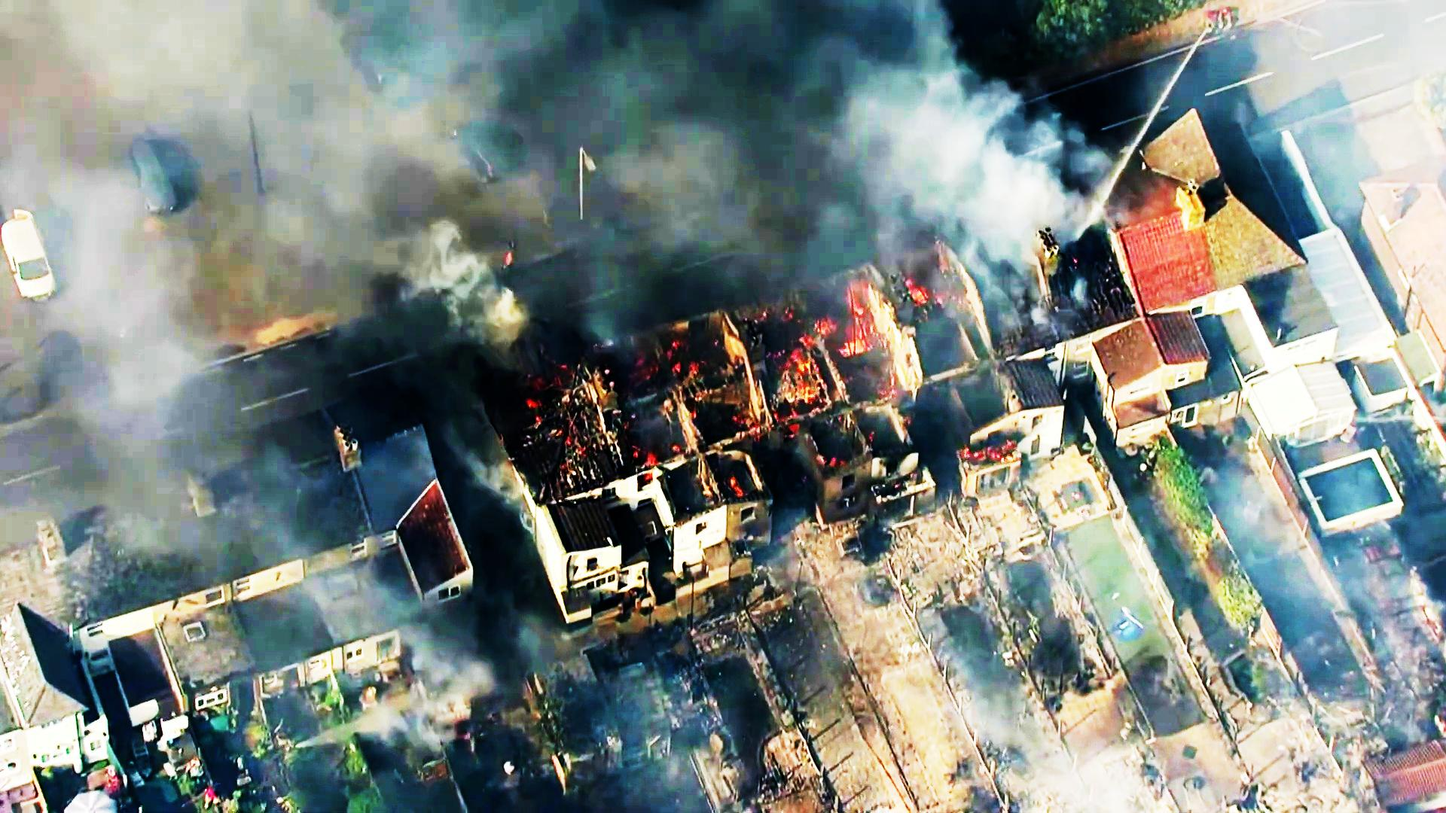smoke: (567, 62, 1013, 258)
